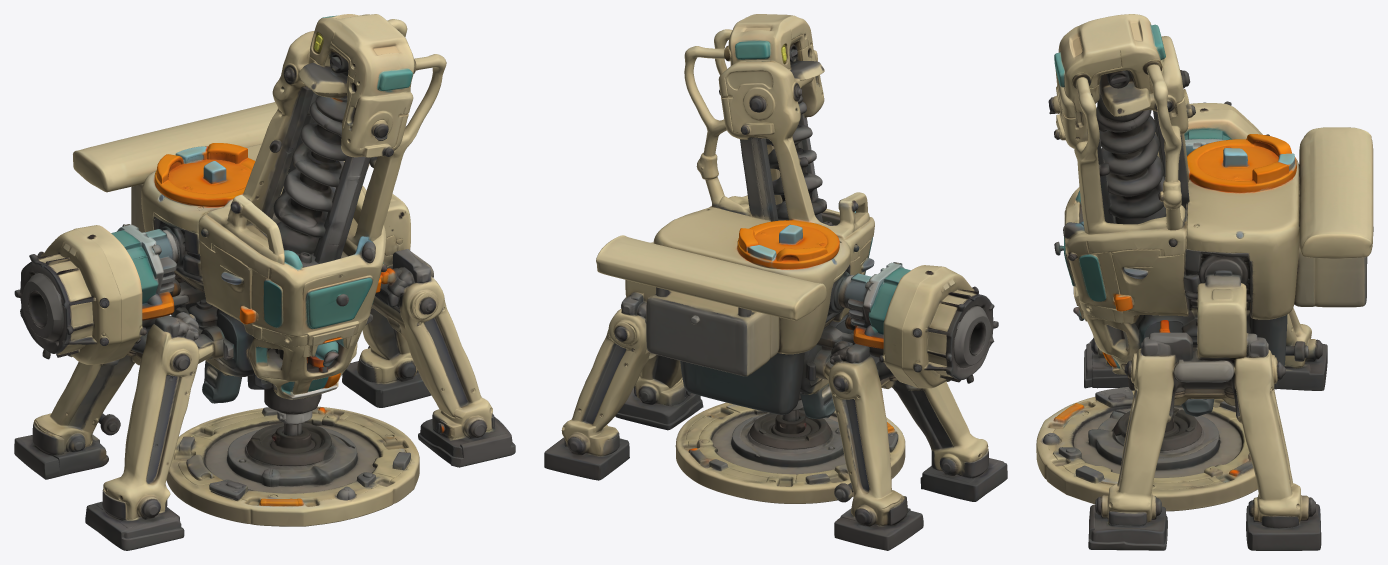
Rendered from miner_alt2.glb.
3 views of the same model, side by side, from view 1: azimuth 30°, elevation 25°; view 2: azimuth 150°, elevation 25°; view 3: azimuth 270°, elevation 25° (orthographic). The views are drawn at different scales.
Visible parts, largest first — view 1: tripo_node_0d88a20a-a9a4-4172-864e-82d09ad592bc; view 2: tripo_node_0d88a20a-a9a4-4172-864e-82d09ad592bc; view 3: tripo_node_0d88a20a-a9a4-4172-864e-82d09ad592bc.
Boxes of the visible parts, x1,y1,x2,y2 form: tripo_node_0d88a20a-a9a4-4172-864e-82d09ad592bc: [14, 14, 515, 550]; tripo_node_0d88a20a-a9a4-4172-864e-82d09ad592bc: [544, 14, 1007, 550]; tripo_node_0d88a20a-a9a4-4172-864e-82d09ad592bc: [1036, 14, 1373, 550].
Size of the model in its own units: 0.942 by 0.9788 by 0.6522.
1 material, 1 textured.
